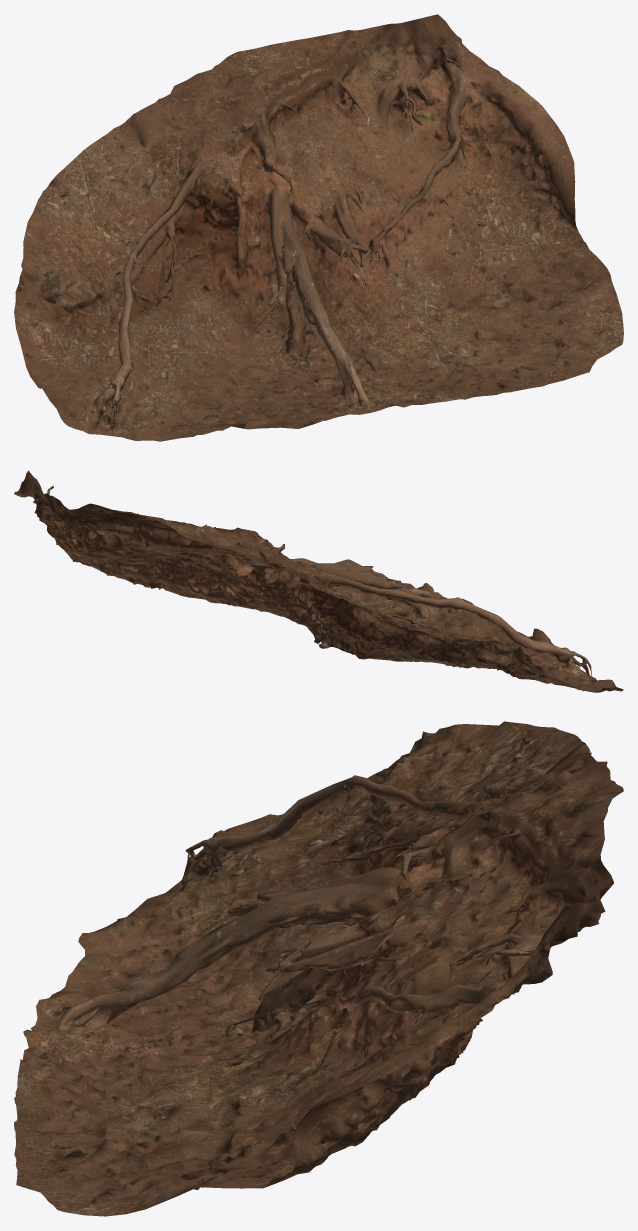
File: root_cluster_01.glb
3 views of the same model, one above another, from view 1: azimuth 30°, elevation 25°; view 2: azimuth 150°, elevation 25°; view 3: azimuth 270°, elevation 25° (orthographic). The views are drawn at different scales.
Bounding box in the file's own units: 4.12 × 1.51 × 2.68.
Materials: 1 (1 with a texture image).
